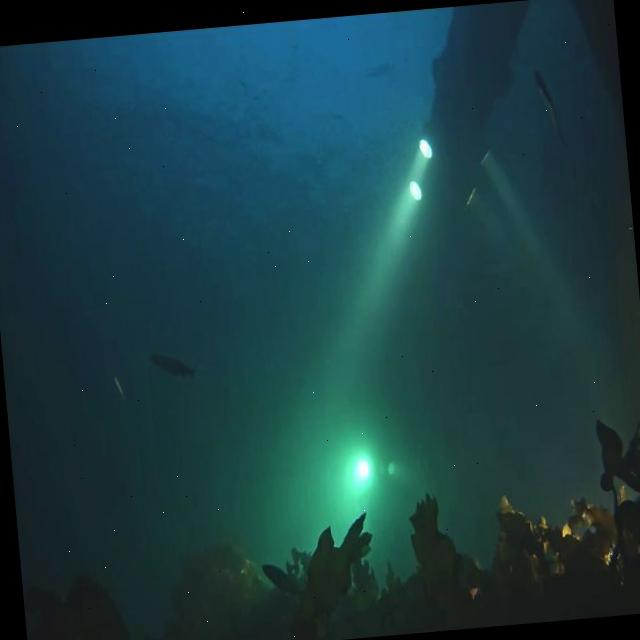fish: (534, 67, 564, 142), (152, 350, 194, 380), (113, 372, 124, 402)
